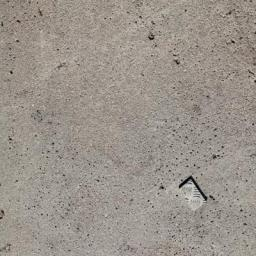FOD: (177, 173, 211, 218)
